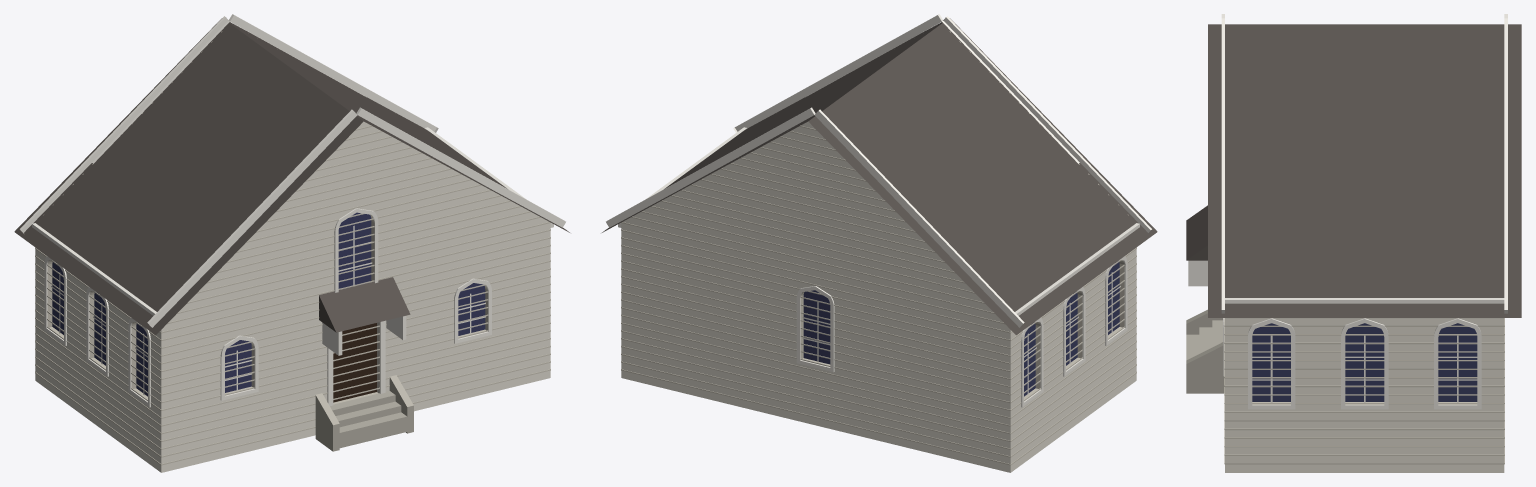
The model's file is ch-do-right-church-1913.glb.
3 renders of one model, left to right at view 1: azimuth 30°, elevation 25°; view 2: azimuth 150°, elevation 25°; view 3: azimuth 270°, elevation 25°, orthographic. The views are drawn at different scales.
Parts seen in each view (by area): view 1: ch_brick, ch_roof, ch_brick2, ch_trim, ch_stain, ch_conc, ch_roof2, ch_door; view 2: ch_brick, ch_roof, ch_brick2, ch_trim, ch_stain; view 3: ch_roof, ch_brick, ch_brick2, ch_trim, ch_stain, ch_conc, ch_roof2.
Boxes of the visible parts, left/top/right/bottom form: ch_brick: left=35, top=121, right=550, bottom=472; ch_roof: left=14, top=18, right=569, bottom=335; ch_brick2: left=35, top=31, right=550, bottom=465; ch_trim: left=20, top=14, right=565, bottom=407; ch_stain: left=52, top=212, right=485, bottom=396; ch_conc: left=315, top=375, right=413, bottom=451; ch_roof2: left=319, top=277, right=410, bottom=332; ch_door: left=333, top=323, right=376, bottom=402; ch_brick: left=621, top=121, right=1136, bottom=472; ch_roof: left=602, top=18, right=1157, bottom=335; ch_brick2: left=621, top=31, right=1136, bottom=465; ch_trim: left=606, top=14, right=1151, bottom=407; ch_stain: left=803, top=261, right=1119, bottom=396; ch_roof: left=1208, top=24, right=1521, bottom=317; ch_brick: left=1225, top=318, right=1504, bottom=472; ch_brick2: left=1224, top=318, right=1504, bottom=464; ch_trim: left=1188, top=14, right=1507, bottom=409; ch_stain: left=1252, top=323, right=1477, bottom=401; ch_conc: left=1186, top=309, right=1224, bottom=393; ch_roof2: left=1186, top=205, right=1207, bottom=260.
Size of the model in its own units: 12.38 by 9.09 by 7.77.
